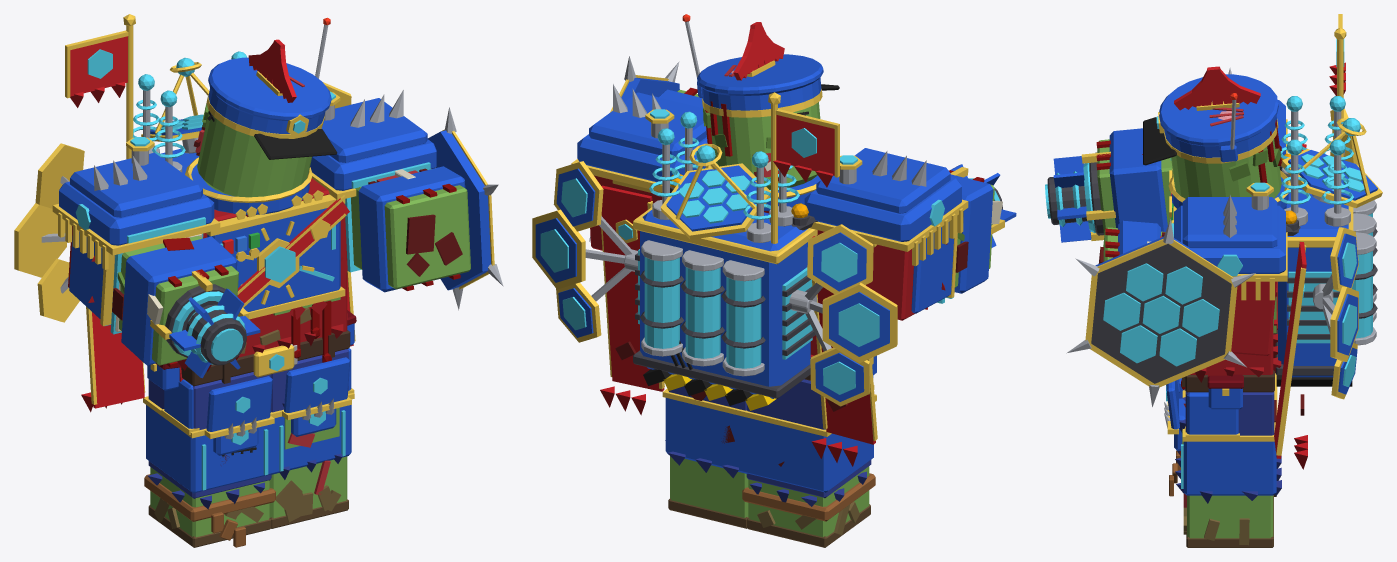
File: jefe_comandante_escudo.glb
The picture shows the model from 3 angles, left to right: view 1: azimuth 30°, elevation 25°; view 2: azimuth 150°, elevation 25°; view 3: azimuth 270°, elevation 25°; orthographic projection. The views are drawn at different scales.
Parts seen in each view (by area): view 1: Torso, RightArm, LeftArm, Head, RightLeg, LeftLeg; view 2: Torso, RightLeg, Head, LeftLeg, RightArm, LeftArm; view 3: Torso, LeftArm, Head, LeftLeg, RightArm, RightLeg.
Boxes of the visible parts, x1,y1,x2,y2 form: Torso: (14, 14, 436, 438); RightArm: (68, 226, 260, 378); LeftArm: (345, 107, 503, 310); Head: (193, 17, 337, 197); RightLeg: (143, 372, 276, 547); LeftLeg: (270, 349, 354, 528); Torso: (532, 84, 968, 466); RightLeg: (741, 379, 876, 547); Head: (682, 14, 839, 189); LeftLeg: (662, 386, 748, 528); RightArm: (866, 164, 1016, 320); LeftArm: (589, 56, 703, 250); Torso: (1166, 14, 1382, 469); LeftArm: (1066, 219, 1276, 406); Head: (1143, 66, 1282, 198); LeftLeg: (1164, 391, 1281, 547); RightArm: (1045, 128, 1172, 242); RightLeg: (1166, 373, 1277, 502).
Size of the model in its own units: 11.61 by 14.66 by 9.81.
1 material, 1 textured.
